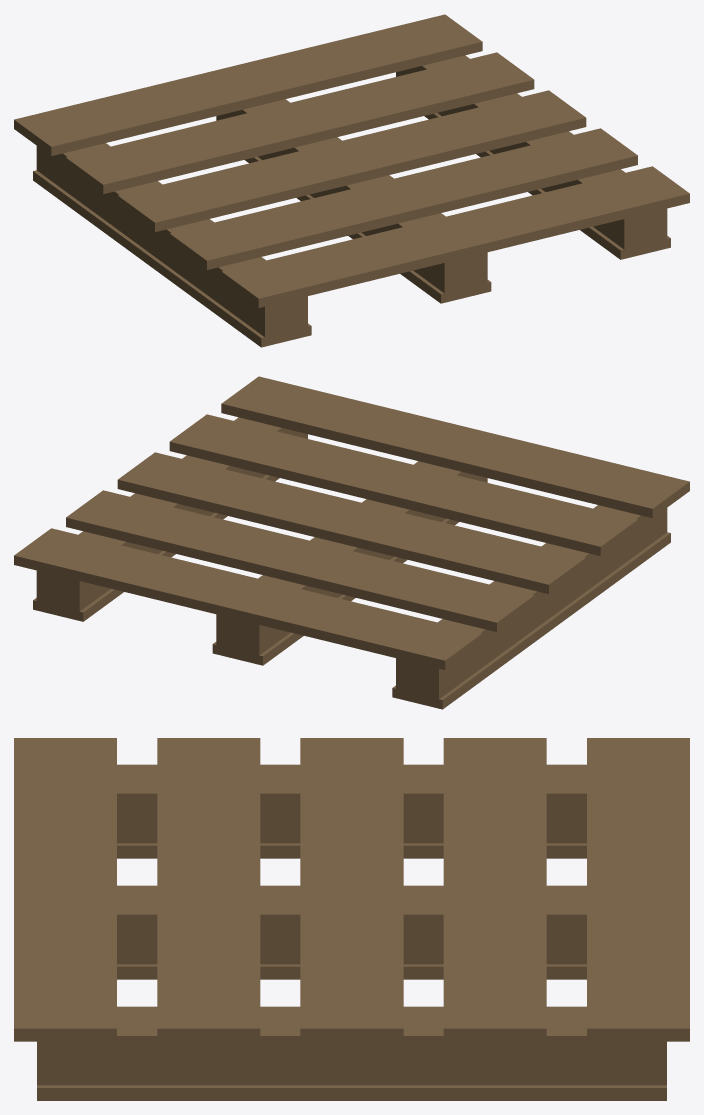
File: pallet.glb
The picture shows the model from 3 angles, top to bottom: view 1: azimuth 30°, elevation 25°; view 2: azimuth 150°, elevation 25°; view 3: azimuth 270°, elevation 25°; orthographic projection. The views are drawn at different scales.
Parts seen in each view (by area): view 1: Cube.002, Cube.001, Cube.004, Cube, Cube.003, Cube.005, Cube.007, Cube.006, Cube.008, Cube.009, Cube.010; view 2: Cube.002, Cube, Cube.003, Cube.004, Cube.001, Cube.005, Cube.007, Cube.006, Cube.008, Cube.009, Cube.010; view 3: Cube.007, Cube.001, Cube.002, Cube.003, Cube, Cube.004, Cube.005, Cube.006, Cube.010, Cube.008, Cube.009.
Part boxes in pixels (left/top/right/bottom): Cube.002: left=117, top=90, right=586, bottom=231; Cube.001: left=169, top=128, right=637, bottom=269; Cube.004: left=14, top=14, right=482, bottom=156; Cube: left=221, top=166, right=689, bottom=307; Cube.003: left=66, top=52, right=534, bottom=194; Cube.005: left=36, top=143, right=307, bottom=338; Cube.007: left=396, top=55, right=667, bottom=251; Cube.006: left=216, top=99, right=487, bottom=294; Cube.008: left=33, top=170, right=311, bottom=347; Cube.009: left=244, top=156, right=491, bottom=303; Cube.010: left=424, top=113, right=670, bottom=259; Cube.002: left=117, top=452, right=586, bottom=593; Cube: left=221, top=376, right=689, bottom=518; Cube.003: left=66, top=490, right=534, bottom=631; Cube.004: left=14, top=528, right=482, bottom=669; Cube.001: left=169, top=414, right=637, bottom=556; Cube.005: left=396, top=505, right=667, bottom=700; Cube.007: left=36, top=417, right=307, bottom=613; Cube.006: left=216, top=461, right=487, bottom=656; Cube.008: left=392, top=532, right=670, bottom=709; Cube.009: left=212, top=518, right=459, bottom=665; Cube.010: left=33, top=475, right=279, bottom=621; Cube.007: left=37, top=1006, right=666, bottom=1085; Cube.001: left=157, top=738, right=260, bottom=1041; Cube.002: left=300, top=738, right=403, bottom=1041; Cube.003: left=443, top=738, right=546, bottom=1041; Cube: left=14, top=738, right=116, bottom=1041; Cube.004: left=587, top=738, right=689, bottom=1041; Cube.005: left=117, top=764, right=586, bottom=843; Cube.006: left=117, top=885, right=586, bottom=964; Cube.010: left=37, top=1085, right=666, bottom=1100; Cube.008: left=117, top=843, right=586, bottom=858; Cube.009: left=117, top=964, right=586, bottom=979.
Size of what is drawn, in the model's own units: 1.2 by 0.153 by 1.18.
